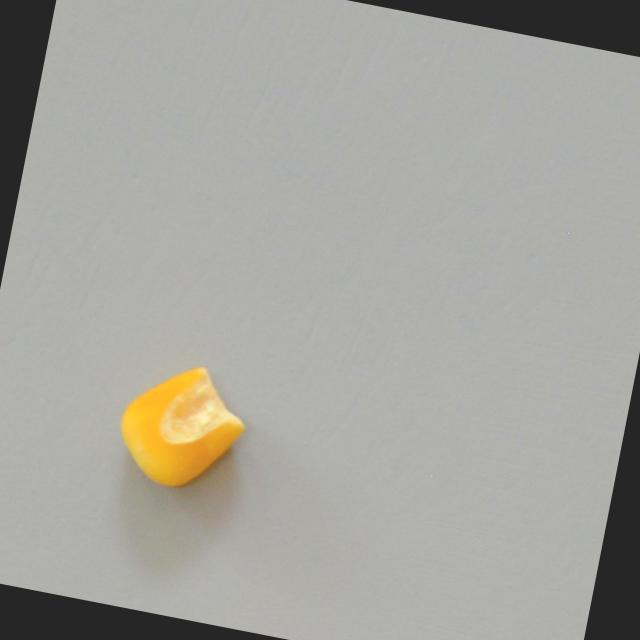dañado: (101, 349, 263, 509)
